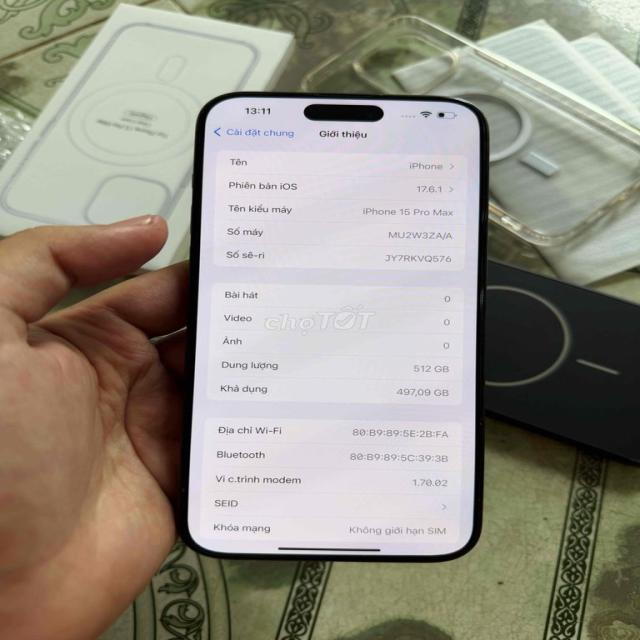gen_15: (158, 83, 512, 577)
